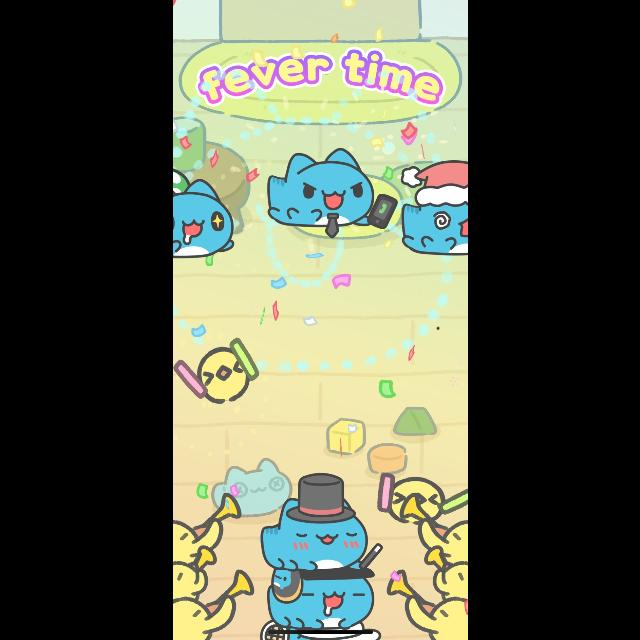capoo: (260, 473, 382, 573), (262, 145, 396, 231), (262, 570, 383, 632), (399, 152, 467, 260), (172, 176, 236, 258)
